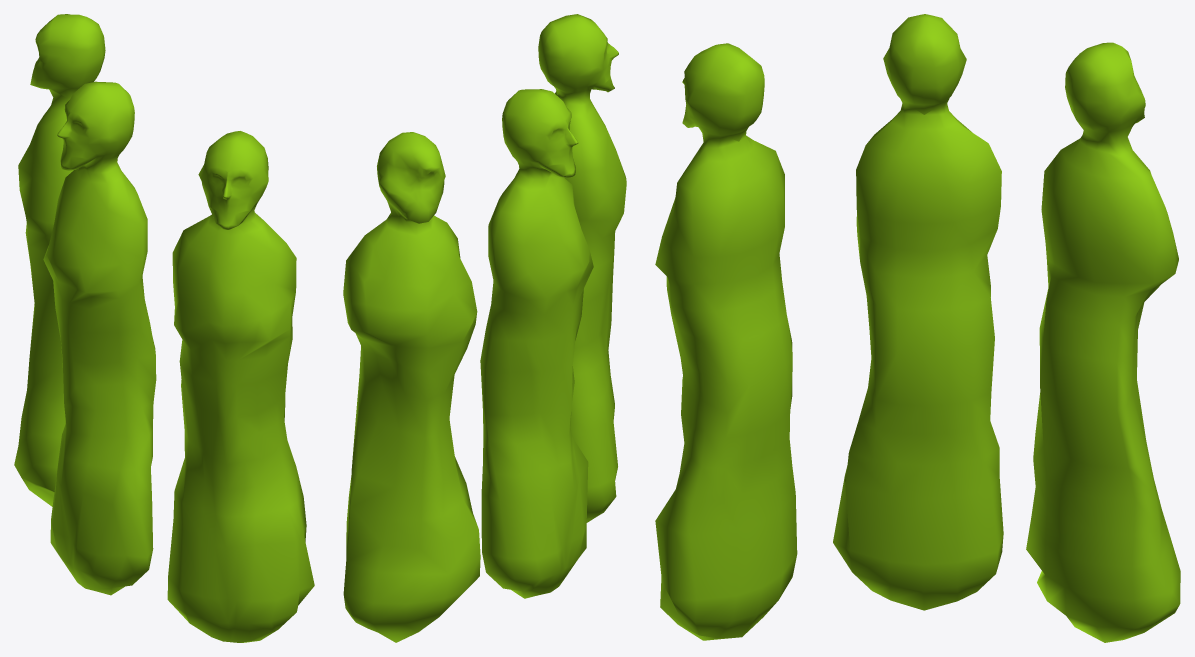
The model's file is Statues_Grp_05_Lod0.fbx.
3 renders of one model, left to right at view 1: azimuth 30°, elevation 25°; view 2: azimuth 150°, elevation 25°; view 3: azimuth 270°, elevation 25°, orthographic. The views are drawn at different scales.
Visible parts, largest first — view 1: Statues_Grp_05_Lod0; view 2: Statues_Grp_05_Lod0; view 3: Statues_Grp_05_Lod0.
Part boxes in pixels (x1,y1,x2,y2): Statues_Grp_05_Lod0: (14,14,314,642); Statues_Grp_05_Lod0: (343,14,626,642); Statues_Grp_05_Lod0: (655,14,1180,642).
Size of the model in its own units: 67.52 by 211 by 171.
